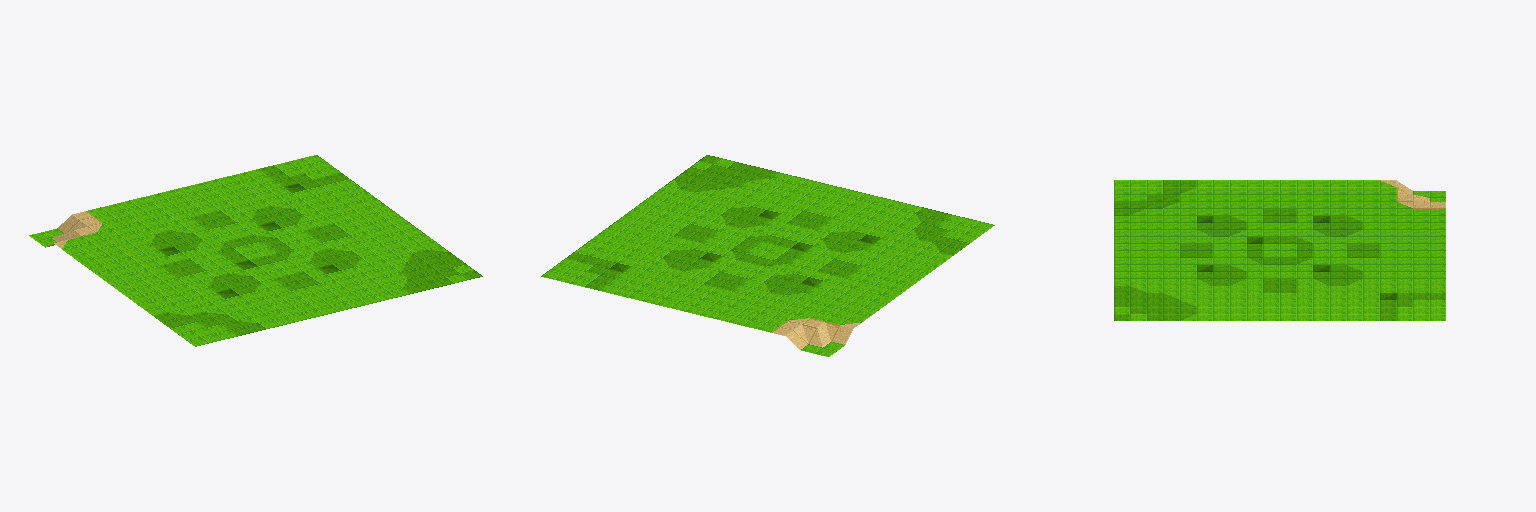
3 views of the same model, side by side, from view 1: azimuth 30°, elevation 25°; view 2: azimuth 150°, elevation 25°; view 3: azimuth 270°, elevation 25° (orthographic).
Visible parts, largest first — view 1: FloorCentral_3; view 2: FloorCentral_3; view 3: FloorCentral_3.
Part boxes in pixels (left/top/right/bottom): FloorCentral_3: left=29, top=155, right=482, bottom=346; FloorCentral_3: left=541, top=155, right=994, bottom=356; FloorCentral_3: left=1114, top=180, right=1445, bottom=320.
Size of the model in its own units: 20 by 0.6907 by 20.
10 materials, 10 textured.